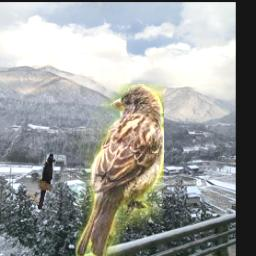Crow: (39, 153, 56, 209)
Sparrow: (76, 84, 164, 256)
